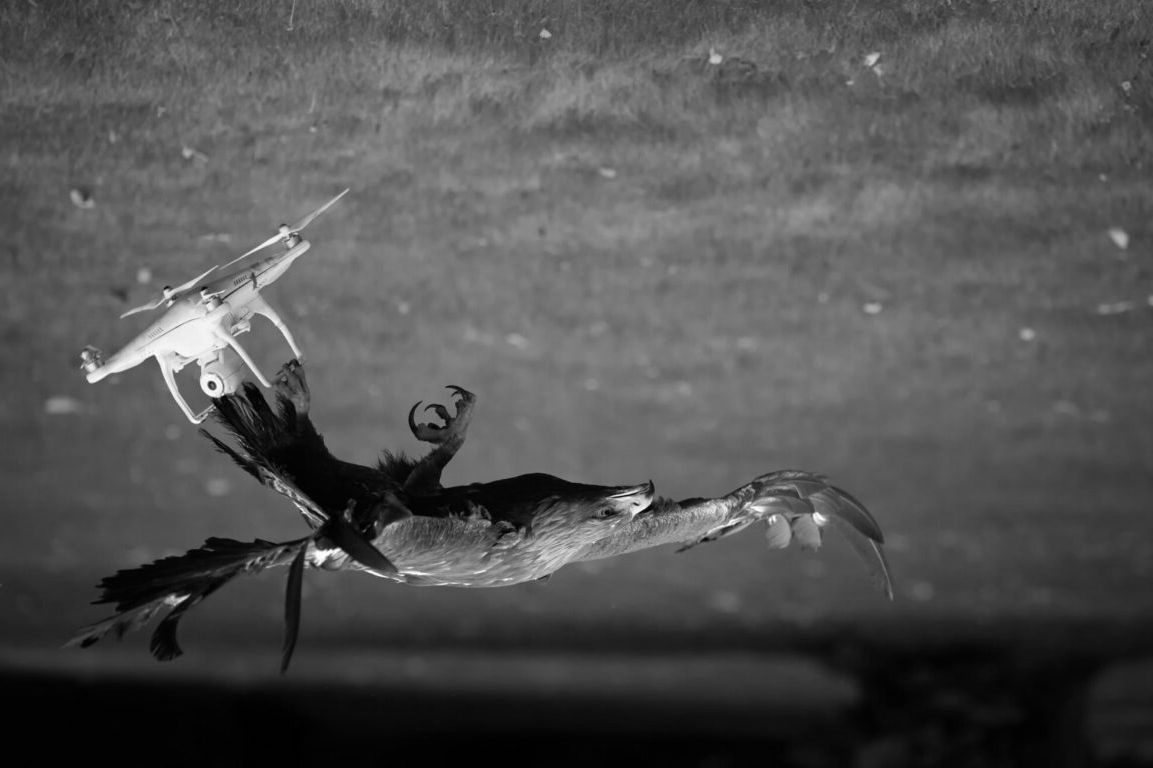Bird: (57, 358, 900, 677)
Drone: (71, 184, 355, 428)
